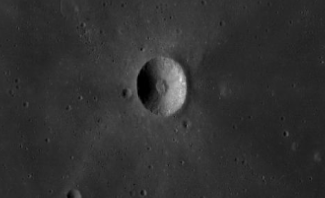crater: (128, 38, 224, 153)
